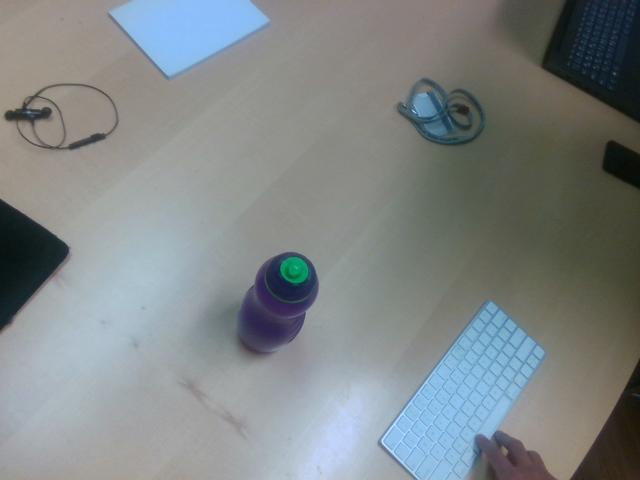bottle: (236, 253, 321, 355)
